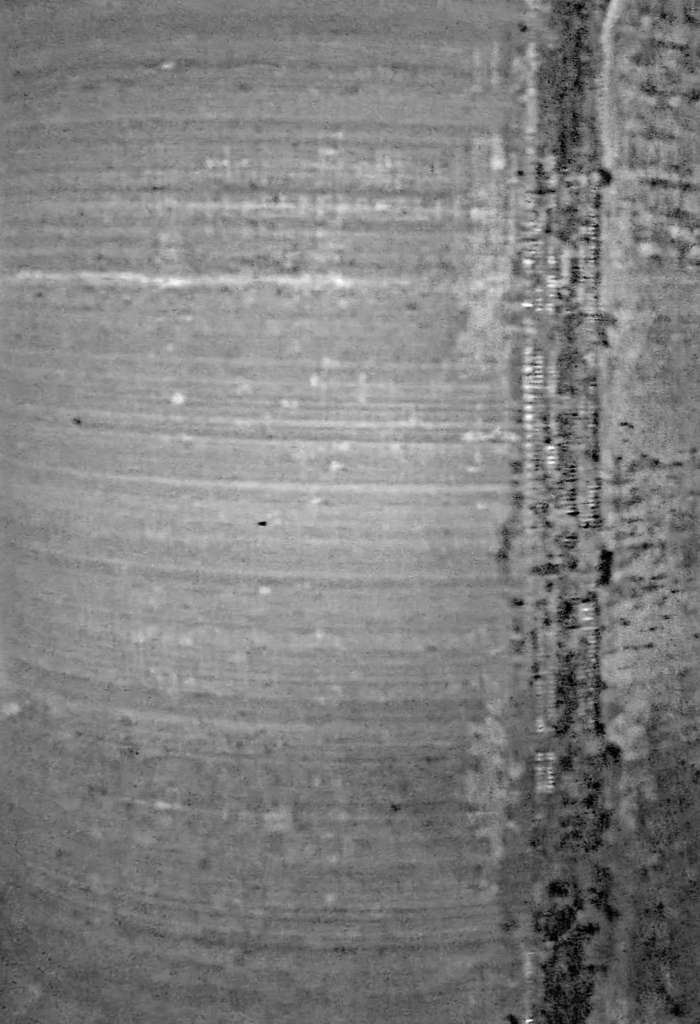splice: (495, 1, 629, 1024)
